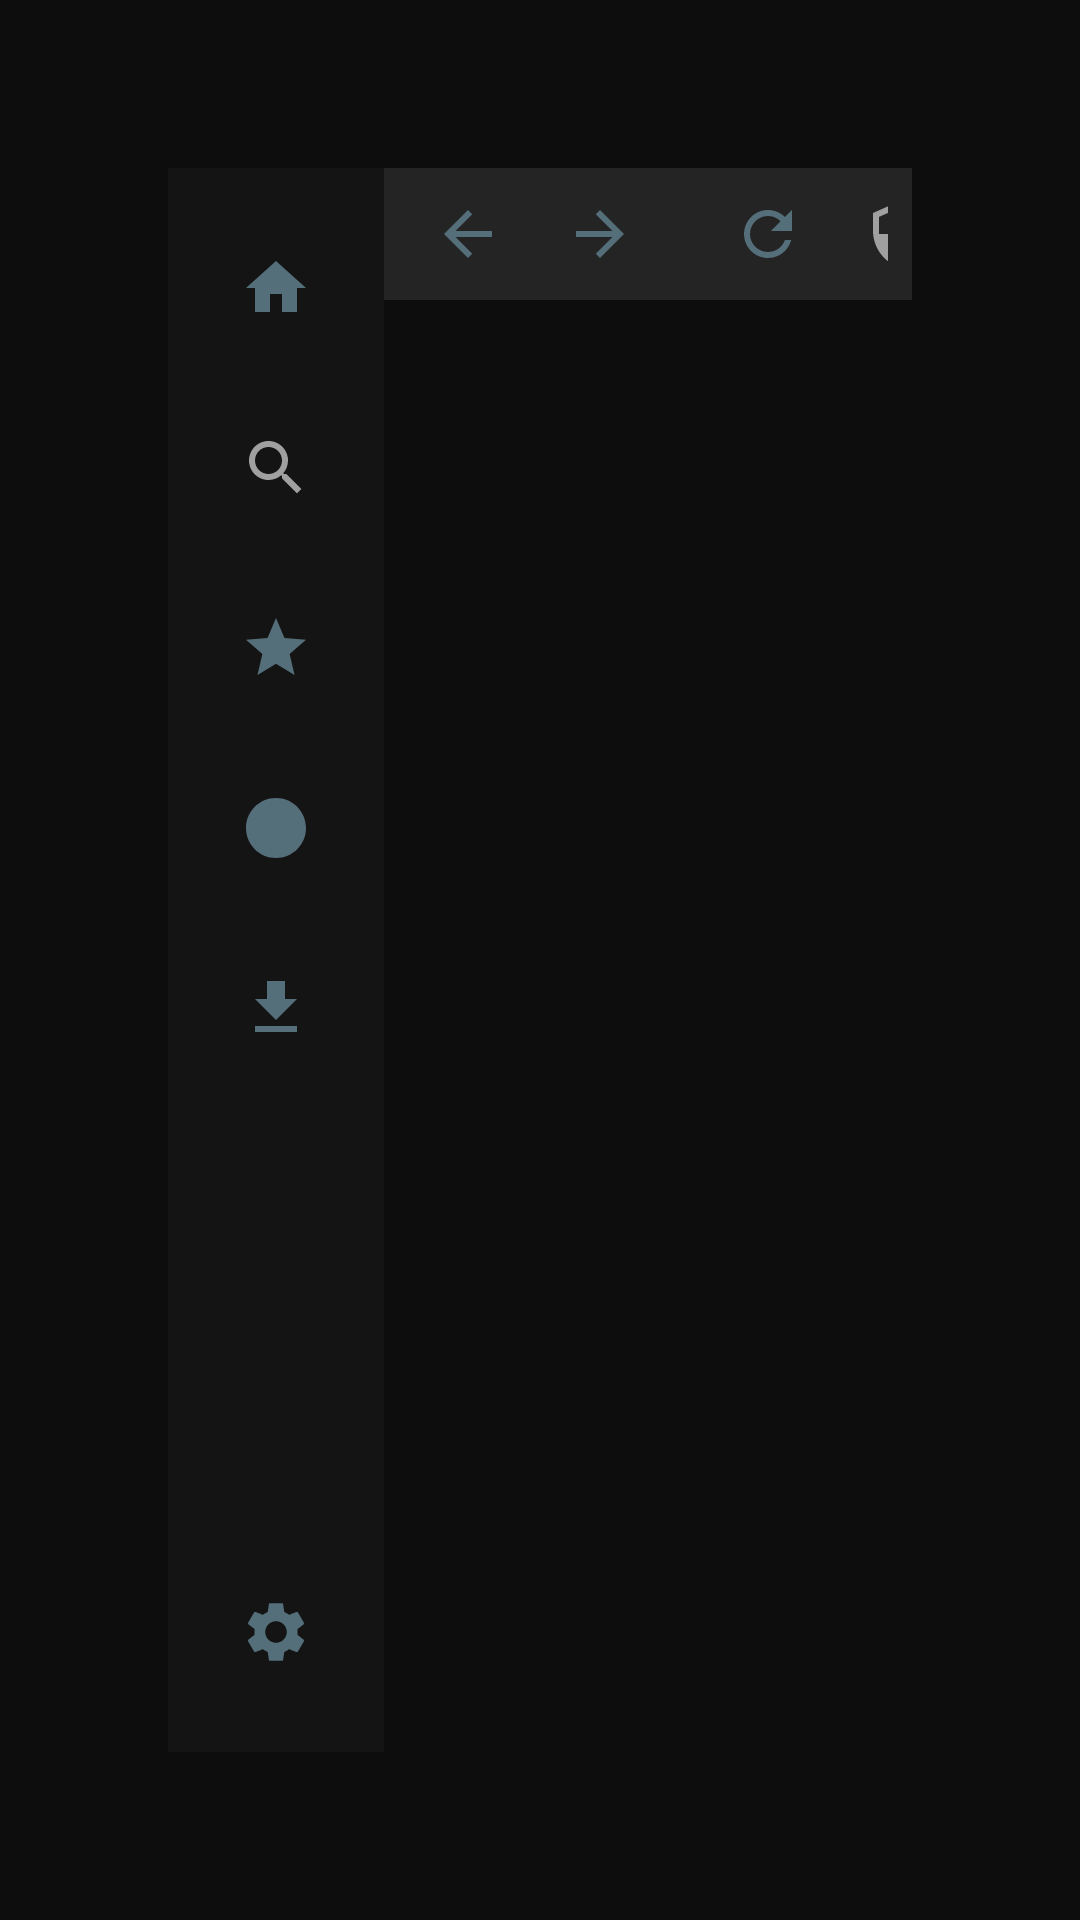

Icon bounding boxes for this 1080w x 1920h phone screenshot, format (x1, y1, x2, y2):
书签: (246, 619, 306, 675)
刷新: (744, 210, 792, 258)
前进: (576, 210, 624, 258)
后退: (444, 210, 492, 258)
搜索: (249, 441, 301, 493)
设置: (248, 1603, 304, 1661)
首页: (246, 261, 306, 312)
